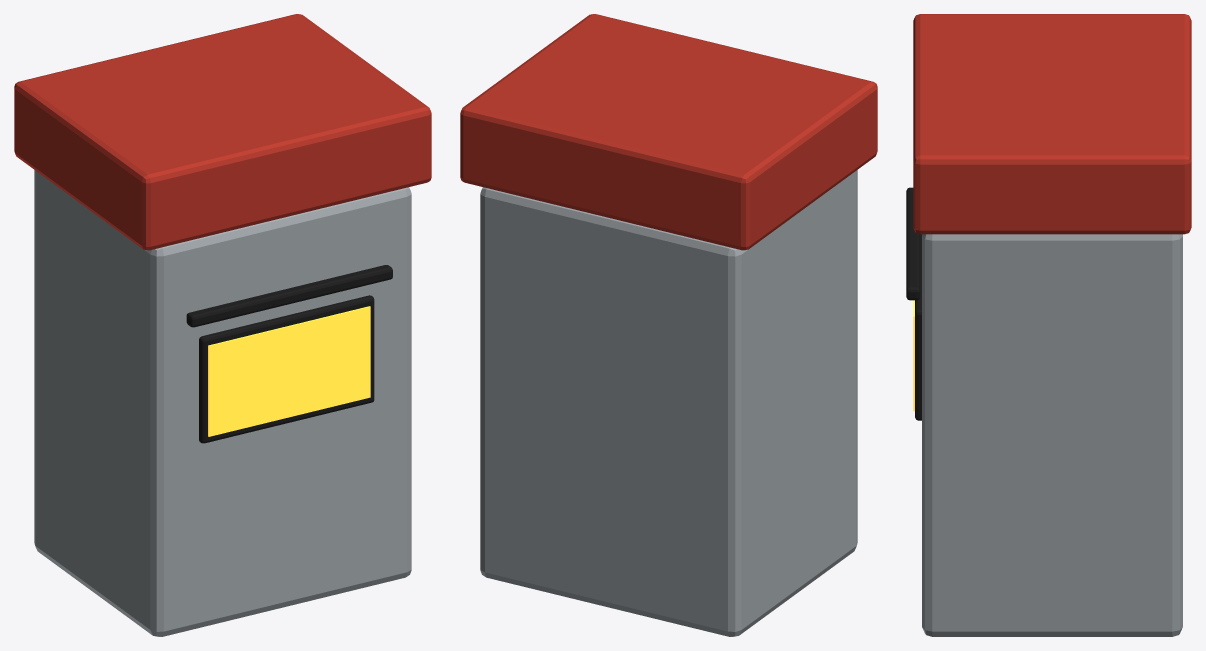
The model's file is ofen-1-elettrico.glb.
3 renders of one model, left to right at view 1: azimuth 30°, elevation 25°; view 2: azimuth 150°, elevation 25°; view 3: azimuth 270°, elevation 25°, orthographic. The views are drawn at different scales.
Visible parts, largest first — view 1: Cube.001, Cube, Cube.003, Cube.002, Cube.004; view 2: Cube.001, Cube; view 3: Cube.001, Cube, Cube.004, Cube.002.
Boxes of the visible parts, x1=… form: Cube.001: x1=34, y1=170, x2=411, y2=636; Cube: x1=14, y1=14, x2=431, y2=250; Cube.003: x1=208, y1=306, x2=370, y2=436; Cube.002: x1=199, y1=295, x2=374, y2=443; Cube.004: x1=186, y1=265, x2=392, y2=327; Cube.001: x1=480, y1=170, x2=857, y2=636; Cube: x1=460, y1=14, x2=877, y2=250; Cube.001: x1=922, y1=234, x2=1182, y2=636; Cube: x1=913, y1=14, x2=1191, y2=234; Cube.004: x1=906, y1=187, x2=920, y2=300; Cube.002: x1=915, y1=234, x2=921, y2=420.
Bounding box in the file's own units: 1 × 1.55 × 0.82.
